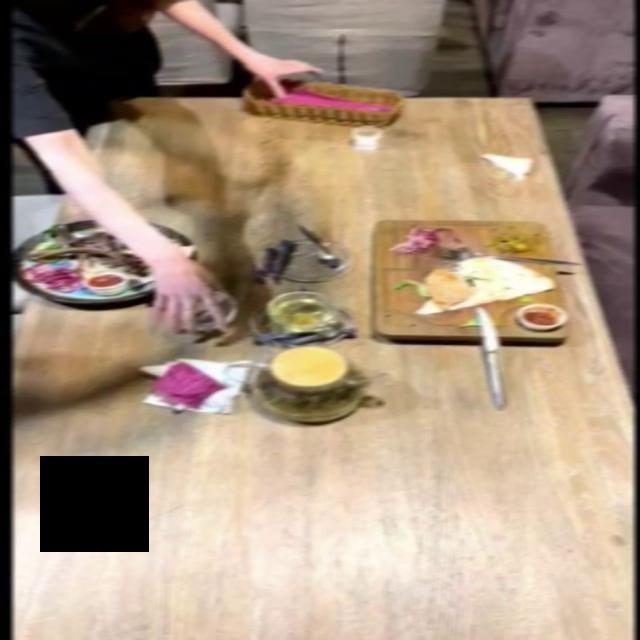meat: (369, 215, 565, 354), (0, 206, 188, 313)
tea: (191, 352, 405, 415)
